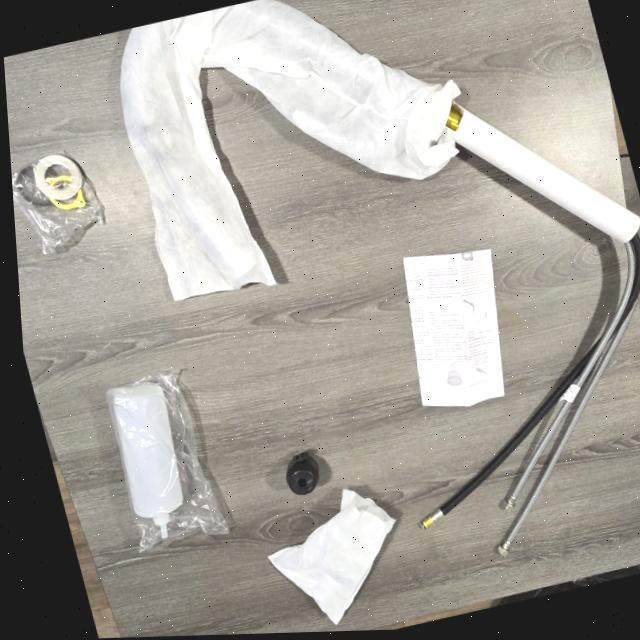1c: (122, 0, 640, 557)
2c: (268, 488, 395, 623)
3: (107, 371, 228, 550)
5: (286, 451, 319, 494)
6: (12, 152, 104, 253)
8: (403, 249, 504, 405)
